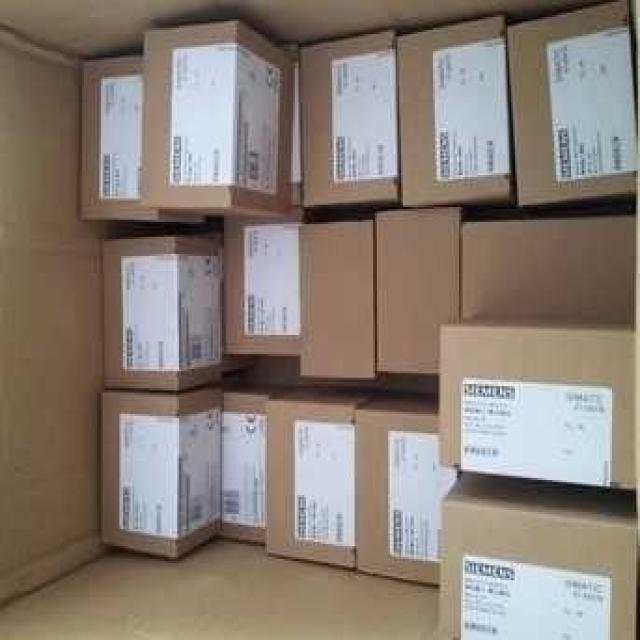box: (434, 320, 638, 491), (438, 474, 636, 638), (140, 22, 294, 217), (504, 3, 638, 212), (396, 17, 510, 207), (80, 54, 205, 225), (103, 388, 224, 559), (264, 382, 372, 569), (353, 394, 458, 585), (462, 214, 636, 325), (99, 237, 222, 391), (299, 33, 399, 207), (298, 219, 384, 385), (377, 207, 460, 374), (224, 376, 295, 546), (224, 208, 305, 355)
